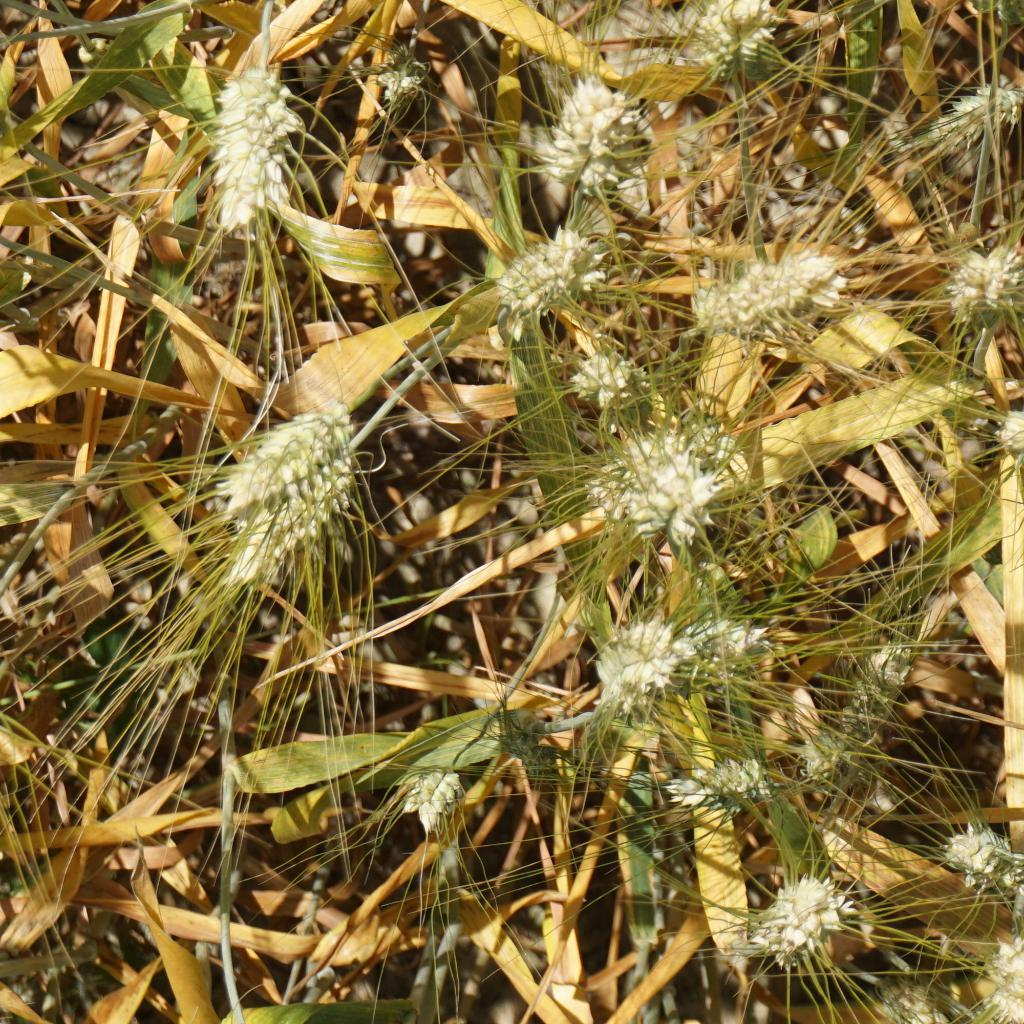0-0: (200, 61, 304, 239), (684, 245, 848, 342), (588, 442, 715, 558), (215, 471, 363, 567), (737, 868, 864, 965), (208, 400, 357, 479), (545, 67, 644, 181), (926, 88, 1024, 165), (502, 233, 608, 304), (602, 615, 690, 699), (663, 0, 770, 67), (391, 760, 478, 840), (672, 757, 788, 815), (842, 641, 913, 728), (568, 351, 648, 423), (942, 245, 1024, 311), (943, 811, 1014, 885), (685, 610, 769, 668), (493, 711, 558, 779), (796, 727, 858, 790), (373, 45, 431, 105), (989, 933, 1024, 1019), (887, 977, 941, 1024), (691, 421, 739, 463), (998, 386, 1024, 446), (964, 0, 1024, 23)
